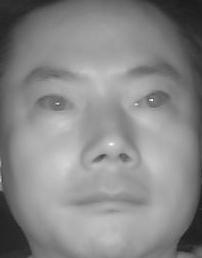eye: (34, 93, 80, 119), (132, 87, 172, 113)
mouth: (73, 182, 148, 222)
